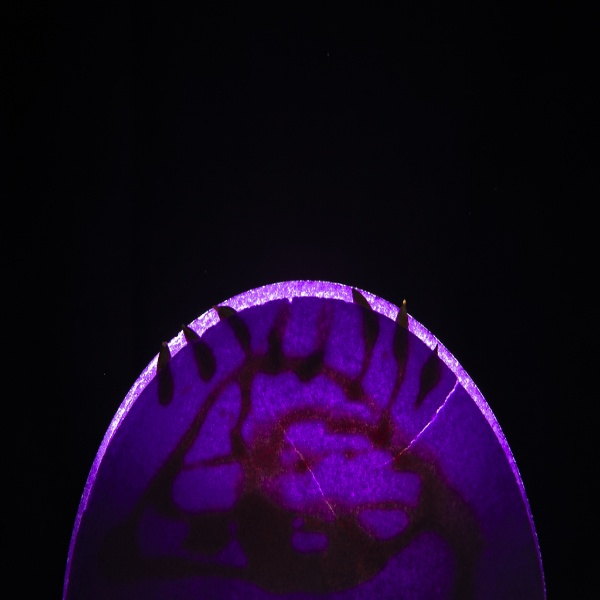Jellyfish: (80, 252, 571, 597)
